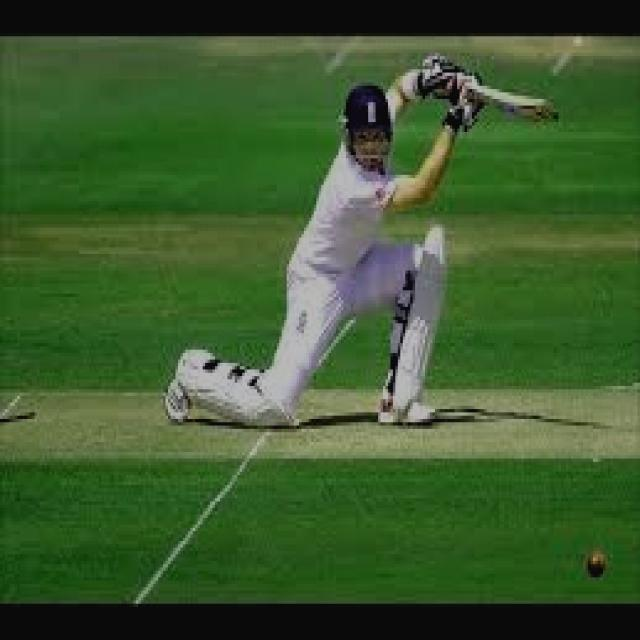toe: (518, 93, 558, 126)
